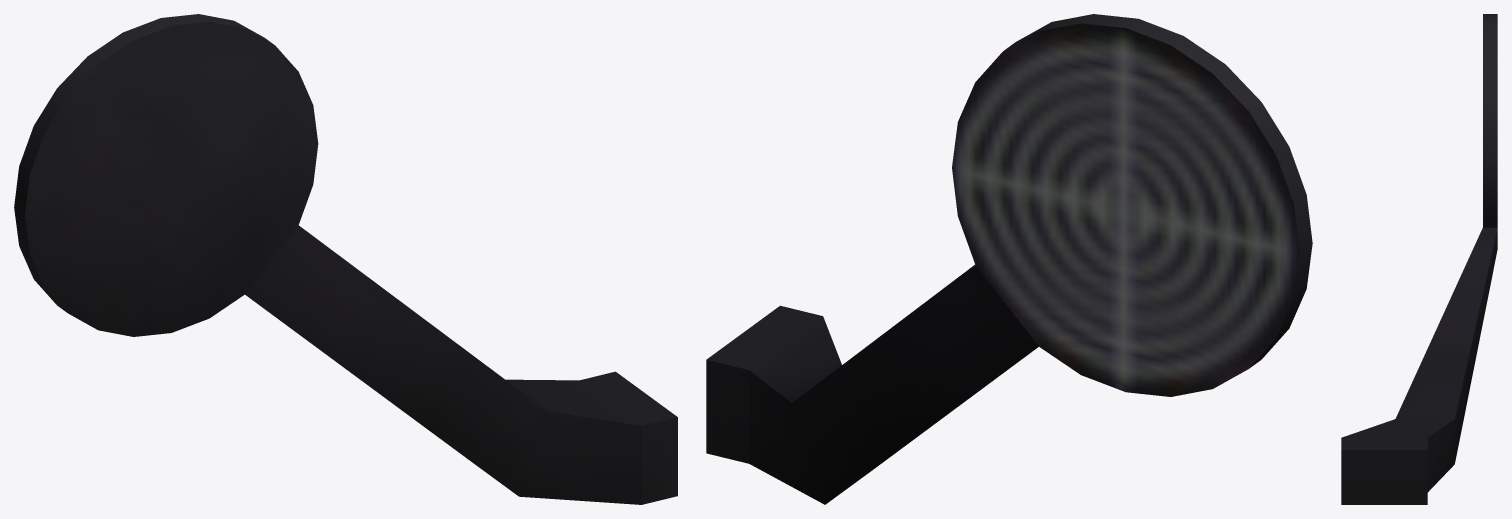
The model's file is sam_chemin_cover.obj.
3 renders of one model, left to right at view 1: azimuth 30°, elevation 25°; view 2: azimuth 150°, elevation 25°; view 3: azimuth 270°, elevation 25°, orthographic. The views are drawn at different scales.
Visible parts, largest first — view 1: Chemin_cover_cover_01_10253000_1_MSL_Ro.000; view 2: Chemin_cover_cover_01_10253000_1_MSL_Ro.000; view 3: Chemin_cover_cover_01_10253000_1_MSL_Ro.000.
Boxes of the visible parts, box(x1,y1,x2,y2) form: Chemin_cover_cover_01_10253000_1_MSL_Ro.000: box(14, 14, 677, 504); Chemin_cover_cover_01_10253000_1_MSL_Ro.000: box(706, 14, 1312, 504); Chemin_cover_cover_01_10253000_1_MSL_Ro.000: box(1341, 14, 1497, 504).
Bounding box in the file's own units: 0.1226 × 0.1051 × 0.0434.
